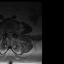CCS_normal: (8, 30, 10, 38)
LFS_normal: (12, 29, 14, 36)
LLS_normal: (10, 30, 12, 37)
RFS_normal: (5, 30, 7, 35)
RLS_normal: (7, 30, 9, 36)
